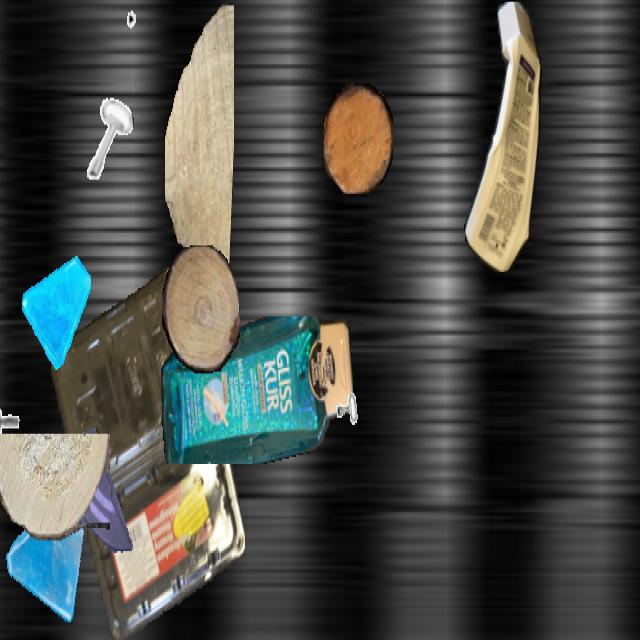glass: (4, 489, 88, 638), (58, 416, 138, 558), (22, 247, 90, 368)
metal: (83, 92, 133, 182), (327, 351, 371, 428), (126, 2, 166, 73), (0, 366, 30, 448)
plastic: (51, 265, 245, 638), (161, 316, 353, 462), (458, 2, 546, 272)
wood: (165, 1, 233, 282), (0, 434, 110, 540), (162, 245, 240, 374), (323, 84, 393, 194)
